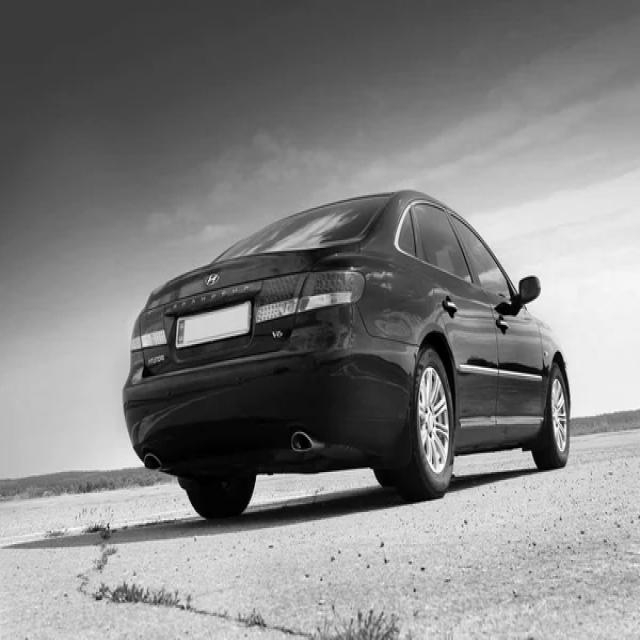Car: (123, 190, 572, 520)
